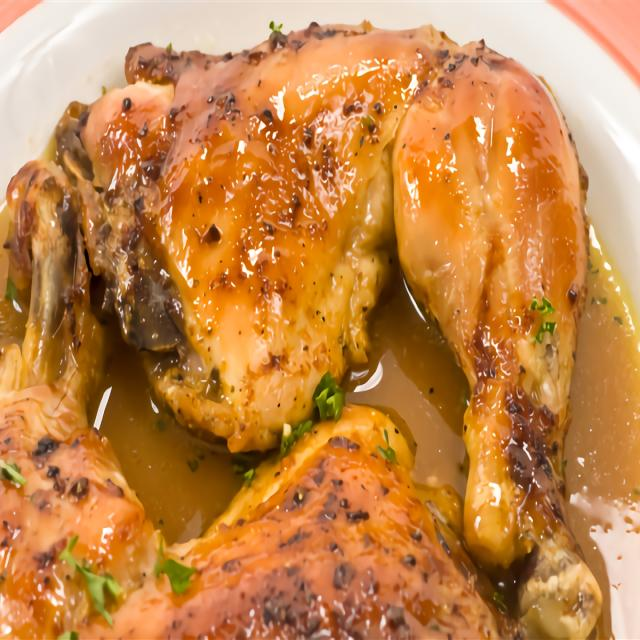pollo: (386, 35, 624, 608)
